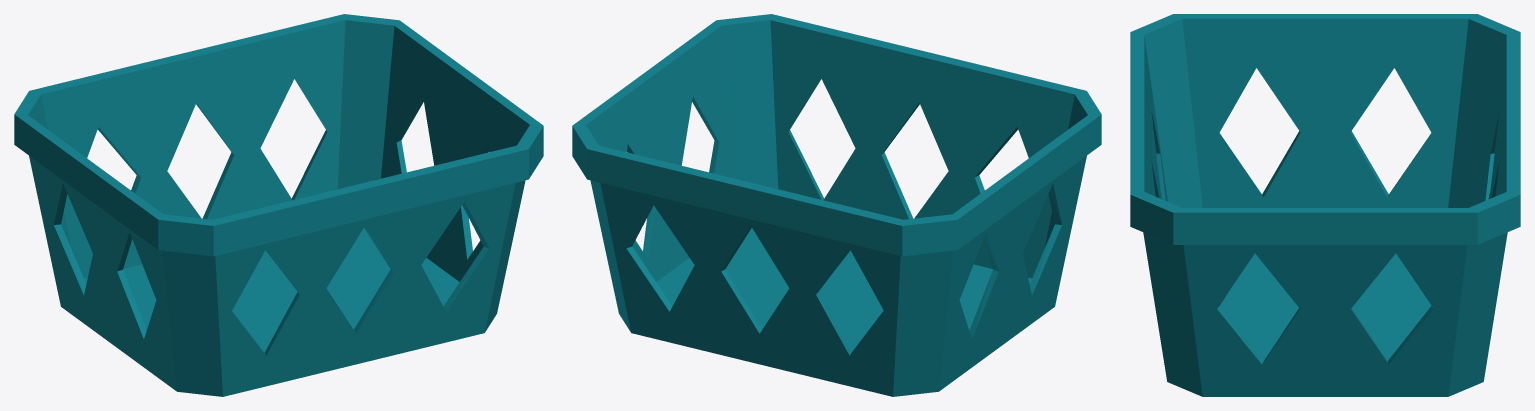
File: SM_Cook_Basket_Cyan_01.obj
3 renders of one model, left to right at view 1: azimuth 30°, elevation 25°; view 2: azimuth 150°, elevation 25°; view 3: azimuth 270°, elevation 25°, orthographic. The views are drawn at different scales.
Visible parts, largest first — view 1: SM_Cook_Basket_Cyan_01; view 2: SM_Cook_Basket_Cyan_01; view 3: SM_Cook_Basket_Cyan_01.
Boxes of the visible parts, x1=… form: SM_Cook_Basket_Cyan_01: x1=14, y1=14, x2=543, y2=396; SM_Cook_Basket_Cyan_01: x1=572, y1=14, x2=1101, y2=396; SM_Cook_Basket_Cyan_01: x1=1130, y1=14, x2=1520, y2=396.
Size of the model in its own units: 0.318 by 0.15 by 0.2638.
Materials: 1 (1 with a texture image).
